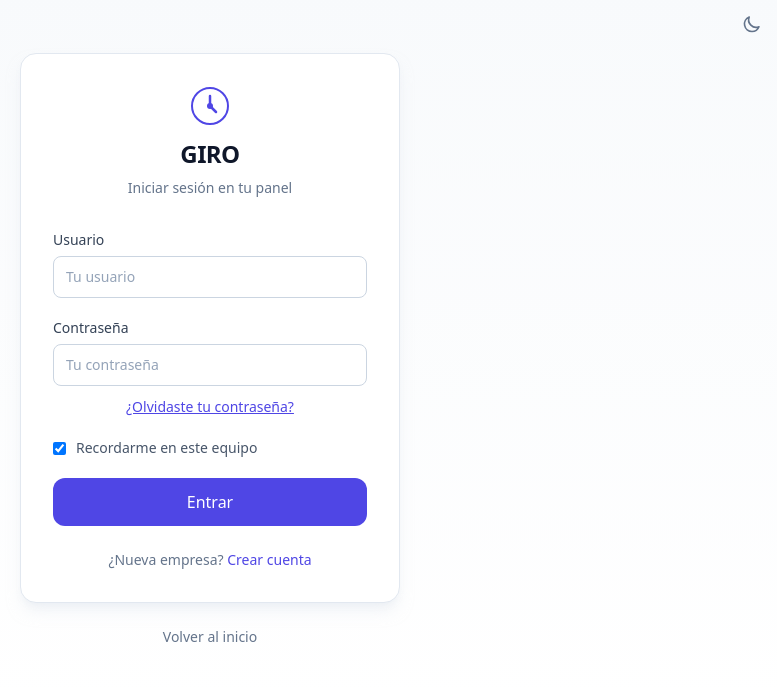
it: LoginPage › muestra error cuando la respuesta no tiene token
The image size is (777, 688).
Type "user" into the field labelled "Usuario".
click(210, 277); type("user")  # box [53, 256, 367, 298]
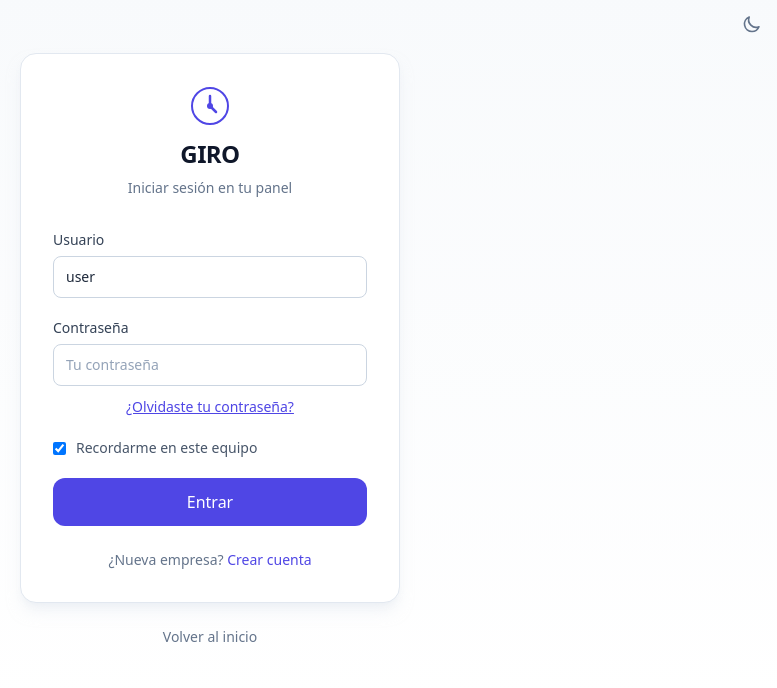
Type "pass" into the password field labelled "Contraseña".
click(210, 365); type("pass")  # box [53, 344, 367, 386]
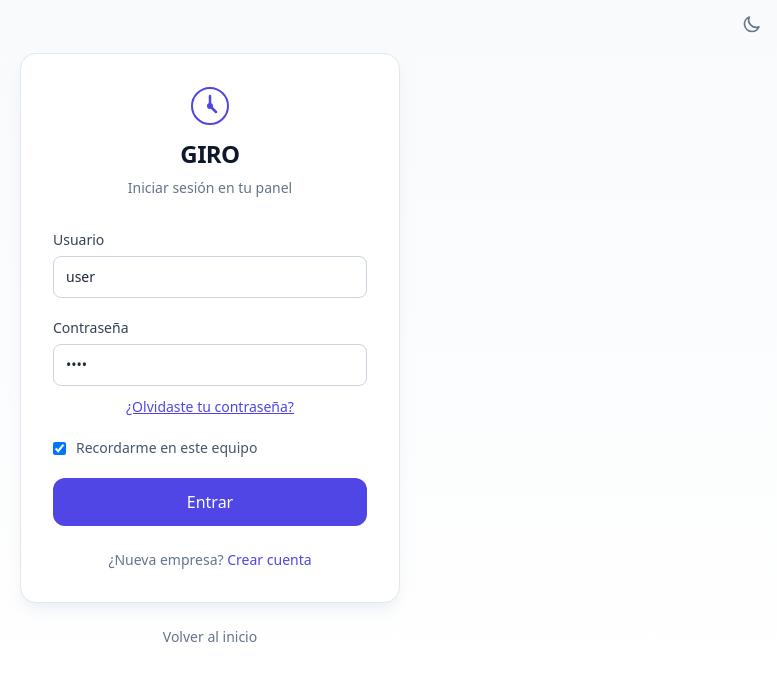
Click the button "Entrar".
click(210, 502)  # box [53, 478, 367, 526]
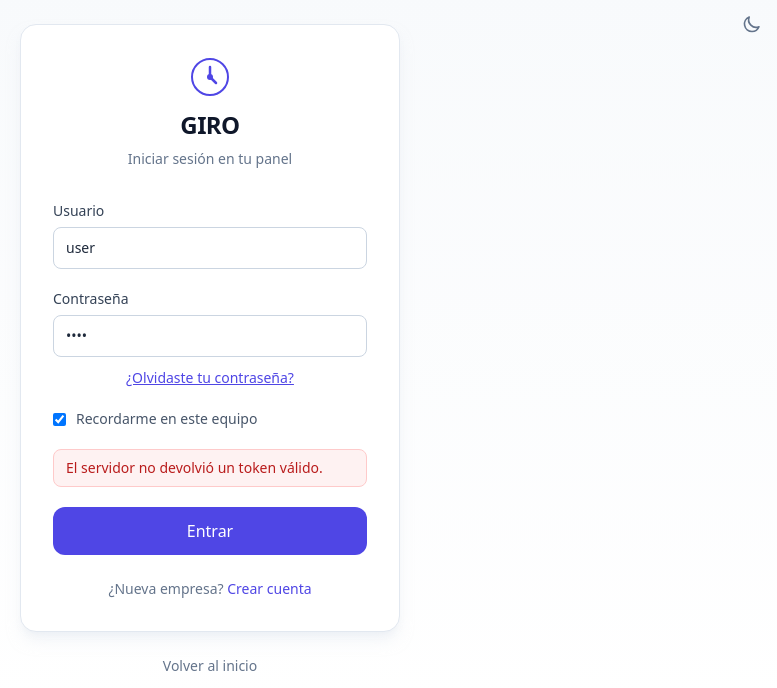
Now the text "El servidor no devolvió un token válido." is shown, box [53, 449, 367, 487]
